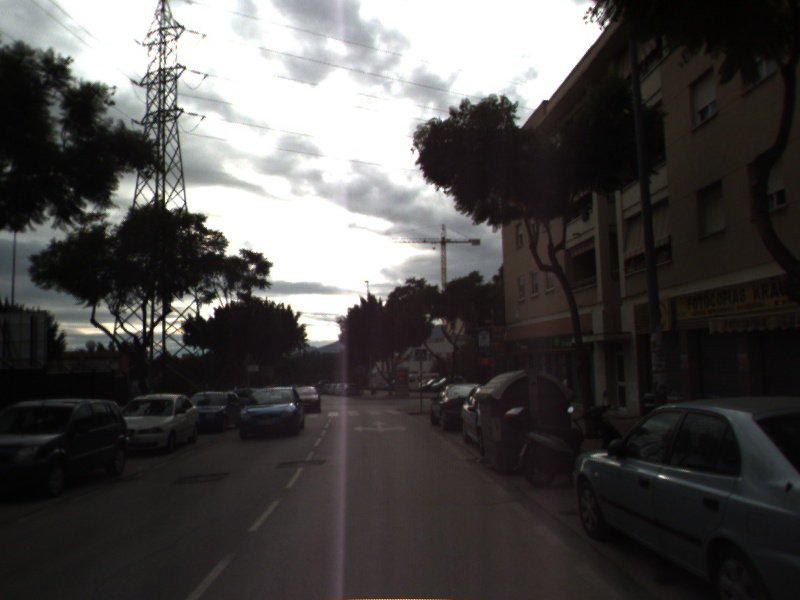STRAIGHT_LEFT_RIGHT: (351, 418, 410, 434)
